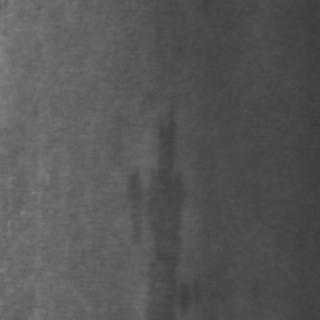inclusion: (122, 109, 194, 315)
